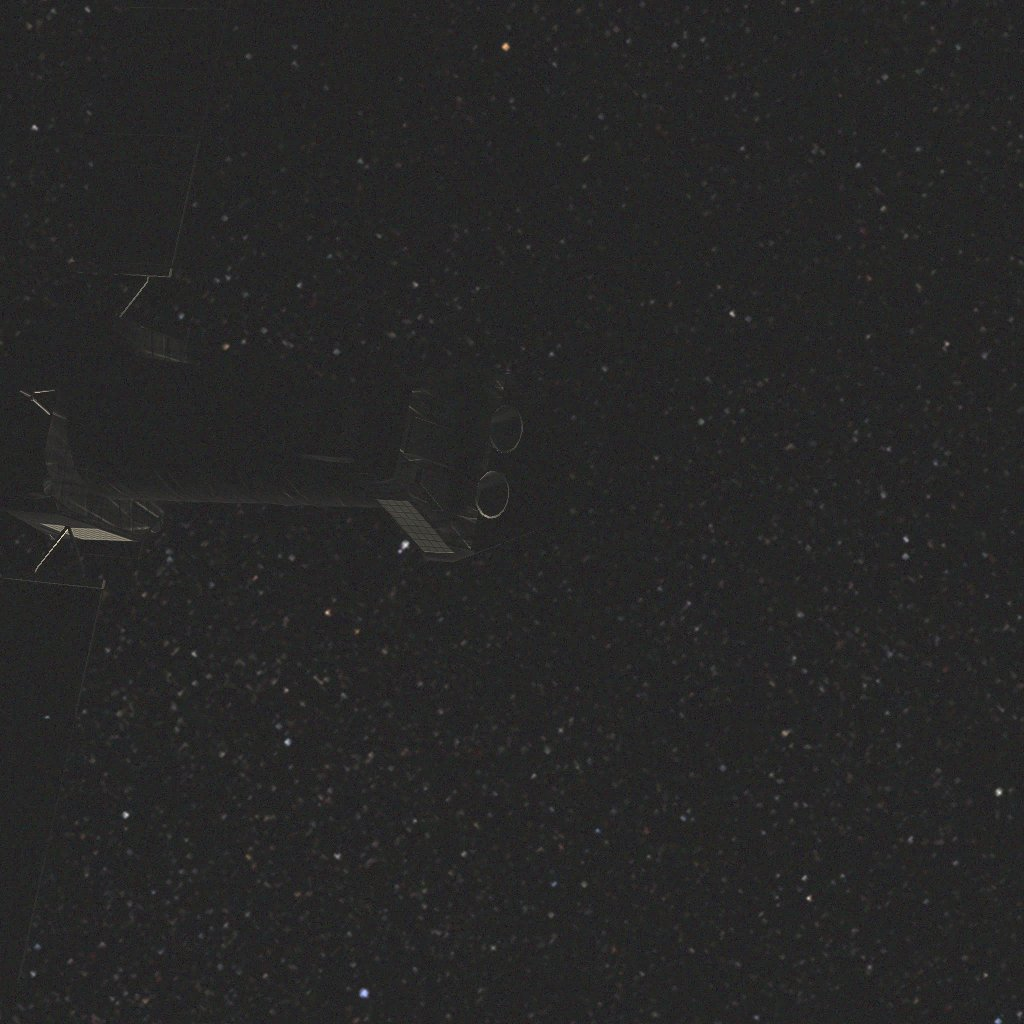xmm_newton: (0, 0, 578, 983)
